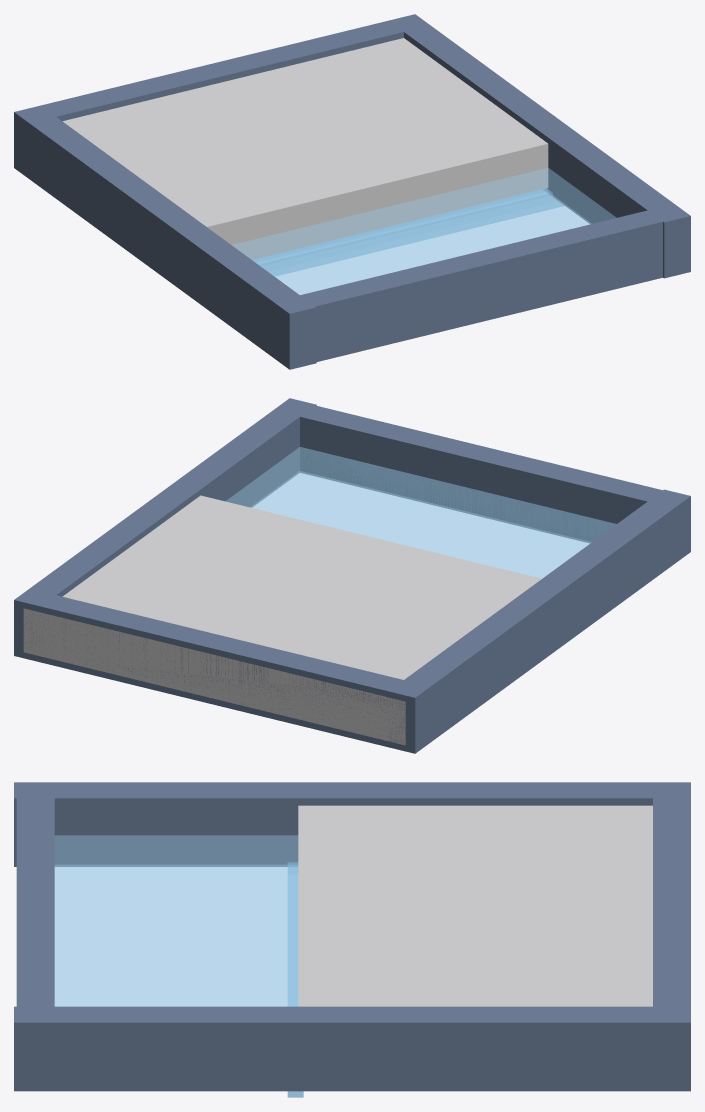
File: 05_wall_half_panel.glb
The picture shows the model from 3 angles, top to bottom: view 1: azimuth 30°, elevation 25°; view 2: azimuth 150°, elevation 25°; view 3: azimuth 270°, elevation 25°; orthographic projection. The views are drawn at different scales.
Parts seen in each view (by area): view 1: part_1, part_3, part_5, part_2, part_6, part_4, part_7; view 2: part_1, part_3, part_2, part_5, part_4, part_6; view 3: part_1, part_6, part_2, part_5, part_3, part_4, part_7.
Boxes of the visible parts, bbox=[...] form: part_1: bbox=[63, 38, 548, 259]; part_3: bbox=[273, 210, 686, 368]; part_5: bbox=[14, 105, 316, 369]; part_2: bbox=[232, 168, 616, 294]; part_6: bbox=[389, 14, 690, 278]; part_4: bbox=[14, 14, 429, 123]; part_7: bbox=[253, 188, 564, 276]; part_1: bbox=[23, 495, 541, 745]; part_3: bbox=[274, 399, 689, 563]; part_2: bbox=[226, 447, 616, 578]; part_5: bbox=[388, 489, 690, 753]; part_4: bbox=[14, 590, 429, 753]; part_6: bbox=[14, 398, 316, 662]; part_1: bbox=[298, 805, 652, 1006]; part_6: bbox=[14, 1006, 690, 1091]; part_2: bbox=[54, 835, 298, 1006]; part_5: bbox=[14, 782, 690, 866]; part_3: bbox=[16, 782, 54, 1091]; part_4: bbox=[653, 782, 690, 1091]; part_7: bbox=[287, 862, 303, 1097].
Bounding box in the file's own units: 2.1 × 0.34 × 2.5.
